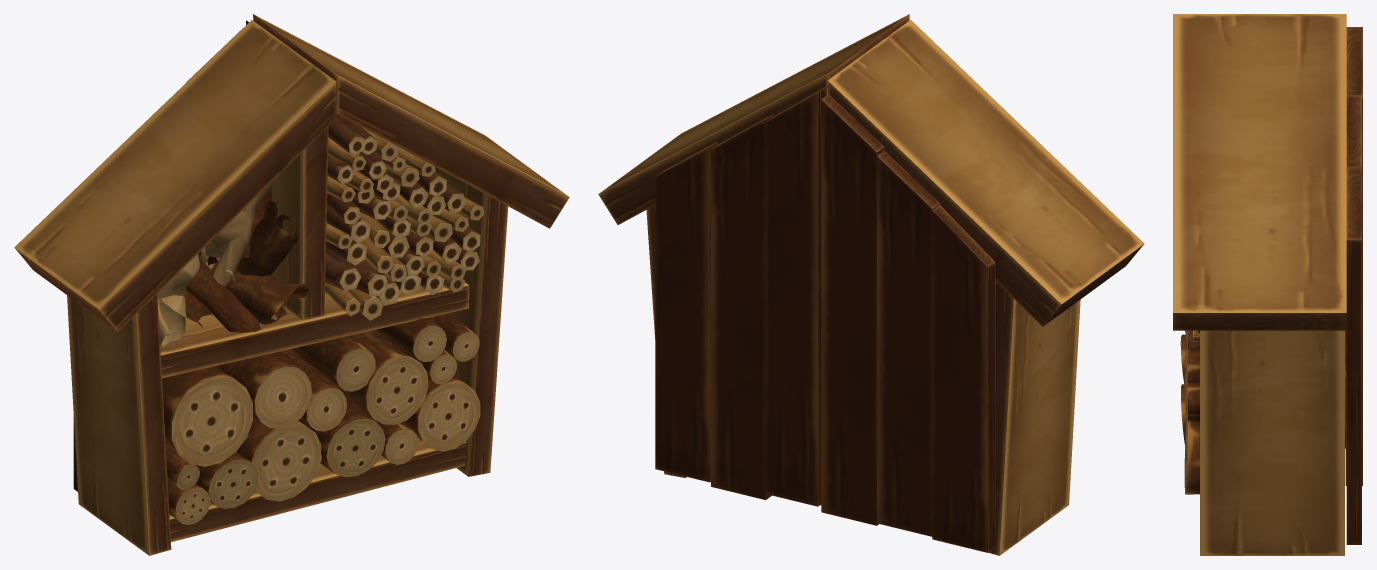
File: assets_bughotel.fbx
The picture shows the model from 3 angles, left to right: view 1: azimuth 30°, elevation 25°; view 2: azimuth 150°, elevation 25°; view 3: azimuth 270°, elevation 25°; orthographic projection. The views are drawn at different scales.
Parts seen in each view (by area): view 1: assets_bughotel_frame, wood_pile, tube_pile, bark_pile; view 2: assets_bughotel_frame; view 3: assets_bughotel_frame, wood_pile.
Part boxes in pixels (x1,y1,x2,y2): assets_bughotel_frame: (14,14,569,555); wood_pile: (162,313,480,525); tube_pile: (325,112,484,320); bark_pile: (157,175,309,347); assets_bughotel_frame: (598,14,1144,555); assets_bughotel_frame: (1173,14,1362,555); wood_pile: (1180,330,1345,494).
Size of the model in its own units: 9.82 by 8.9 by 3.34.
